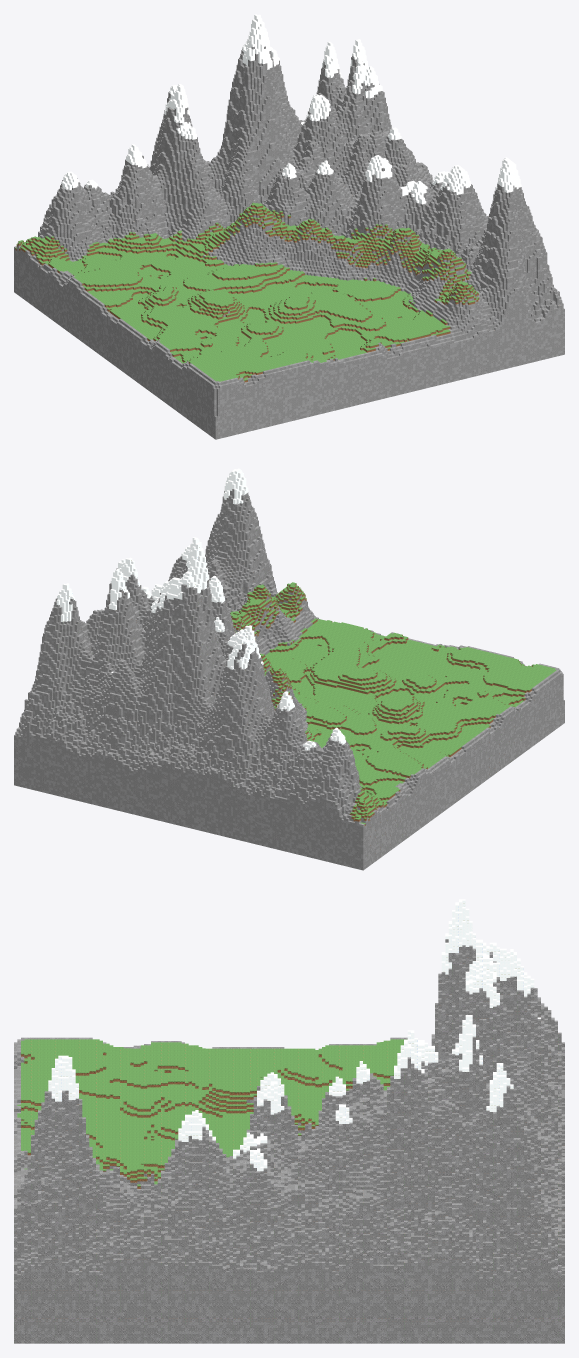
The model's file is mountain_terrain.glb.
3 views of the same model, one above another, from view 1: azimuth 30°, elevation 25°; view 2: azimuth 150°, elevation 25°; view 3: azimuth 270°, elevation 25° (orthographic). The views are drawn at different scales.
Parts seen in each view (by area): view 1: Object_9, Object_11, Object_5, Object_2, Object_8, Object_6, Object_10, Object_7, Object_12; view 2: Object_9, Object_11, Object_2, Object_5, Object_8, Object_10, Object_6, Object_7, Object_12; view 3: Object_10, Object_8, Object_2, Object_5, Object_6, Object_7, Object_11, Object_9, Object_12, Object_3.
Boxes of the visible parts, x1=… form: Object_9: x1=14, y1=46, x2=454, y2=439; Object_11: x1=32, y1=46, x2=504, y2=438; Object_5: x1=15, y1=202, x2=479, y2=381; Object_2: x1=14, y1=54, x2=564, y2=436; Object_8: x1=290, y1=63, x2=564, y2=380; Object_6: x1=26, y1=230, x2=344, y2=382; Object_10: x1=14, y1=50, x2=564, y2=398; Object_7: x1=61, y1=14, x2=521, y2=204; Object_12: x1=347, y1=57, x2=532, y2=367; Object_9: x1=122, y1=566, x2=564, y2=870; Object_11: x1=72, y1=564, x2=564, y2=869; Object_2: x1=14, y1=489, x2=564, y2=868; Object_5: x1=230, y1=582, x2=556, y2=825; Object_8: x1=14, y1=495, x2=318, y2=810; Object_10: x1=14, y1=493, x2=467, y2=866; Object_6: x1=304, y1=644, x2=553, y2=819; Object_7: x1=56, y1=468, x2=345, y2=750; Object_12: x1=44, y1=491, x2=275, y2=798; Object_10: x1=14, y1=1071, x2=564, y2=1343; Object_8: x1=14, y1=1036, x2=564, y2=1343; Object_2: x1=14, y1=952, x2=564, y2=1343; Object_5: x1=21, y1=1039, x2=407, y2=1188; Object_6: x1=17, y1=1042, x2=403, y2=1133; Object_7: x1=48, y1=899, x2=540, y2=1171; Object_11: x1=14, y1=945, x2=564, y2=1224; Object_9: x1=14, y1=939, x2=564, y2=1197; Object_12: x1=14, y1=1063, x2=564, y2=1261; Object_3: x1=27, y1=1118, x2=561, y2=1254.
Size of the model in its own units: 1.44 by 1 by 1.44.
Materials: 5 (5 with a texture image).
